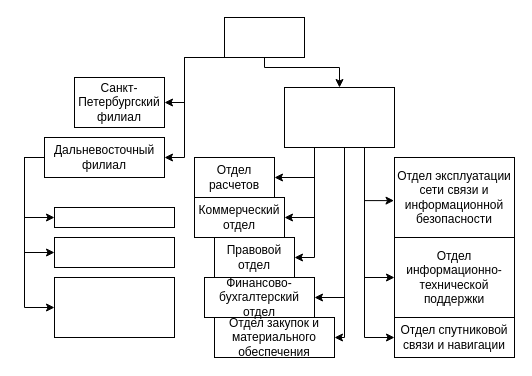
Some shapes in this 532 by 376 pixel diagram are drawn without their labels. Here are the shapes that lost their labels. From the top down, the box of each, then its label:
(224, 16, 304, 58): Генеральный директор
(284, 86, 394, 148): Московский филиал
(54, 206, 174, 228): Администрация
(54, 236, 174, 268): Служба обеспечения
(54, 276, 174, 338): Служба эксплуатации спутниковых систем связи
